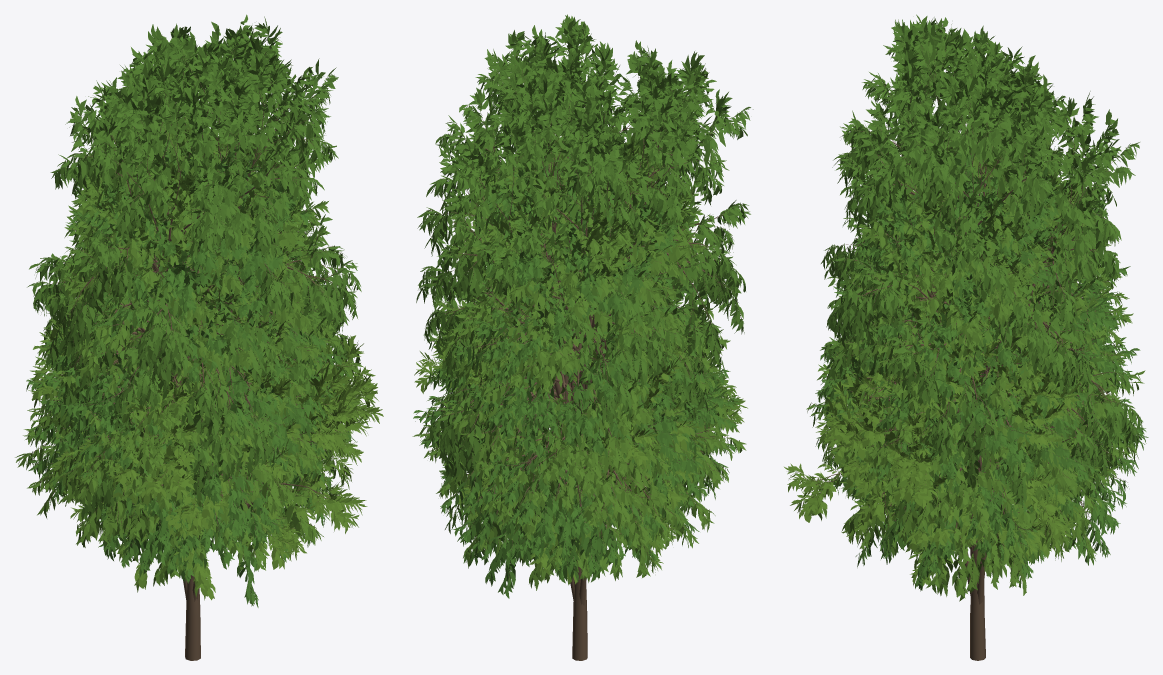
The model's file is botanical-trees.glb.
3 views of the same model, side by side, from view 1: azimuth 30°, elevation 25°; view 2: azimuth 150°, elevation 25°; view 3: azimuth 270°, elevation 25° (orthographic). The views are drawn at different scales.
Parts seen in each view (by area): view 1: Leaves_1, Leaves_2, Leaves_0, Leaves_3, Bark_1, Bark_2, Bark_0; view 2: Leaves_1, Leaves_2, Leaves_0, Leaves_3, Bark_1, Bark_2, Bark_0; view 3: Leaves_1, Leaves_2, Leaves_0, Leaves_3, Bark_1, Bark_2, Bark_0, Bark_3.
Part boxes in pixels (x1=…): Leaves_1: x1=27, y1=14, x2=361, y2=521; Leaves_2: x1=15, y1=115, x2=366, y2=586; Leaves_0: x1=26, y1=117, x2=355, y2=607; Leaves_3: x1=28, y1=272, x2=383, y2=600; Bark_1: x1=37, y1=28, x2=354, y2=660; Bark_2: x1=30, y1=130, x2=354, y2=567; Bark_0: x1=32, y1=147, x2=340, y2=590; Leaves_1: x1=416, y1=14, x2=753, y2=530; Leaves_2: x1=412, y1=127, x2=746, y2=590; Leaves_0: x1=413, y1=141, x2=740, y2=598; Leaves_3: x1=414, y1=271, x2=747, y2=585; Bark_1: x1=423, y1=25, x2=744, y2=660; Bark_2: x1=424, y1=150, x2=736, y2=566; Bark_0: x1=419, y1=158, x2=734, y2=580; Leaves_1: x1=818, y1=14, x2=1142, y2=544; Leaves_2: x1=806, y1=134, x2=1145, y2=601; Leaves_0: x1=812, y1=127, x2=1148, y2=591; Leaves_3: x1=784, y1=290, x2=1084, y2=590; Bark_1: x1=826, y1=24, x2=1139, y2=660; Bark_2: x1=812, y1=146, x2=1133, y2=582; Bark_0: x1=817, y1=163, x2=1144, y2=574; Bark_3: x1=793, y1=314, x2=1054, y2=604.
Bounding box in the file's own units: 2.94 × 5.85 × 3.14.
